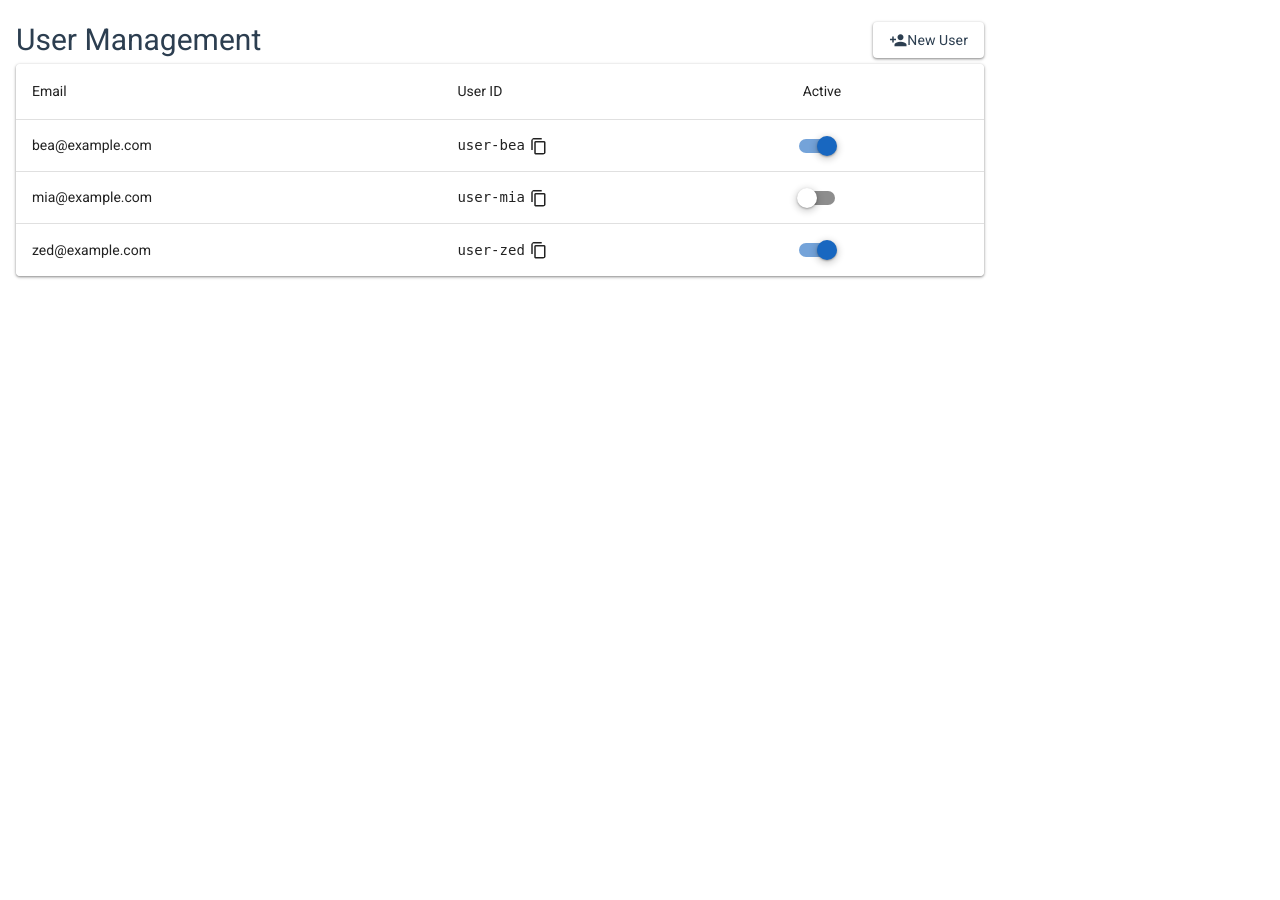
Test: UserManagementView › shows a copyable link when the invite email was not sent
Click the button with id "new-user-button" at (929, 40), box [873,22,984,58]
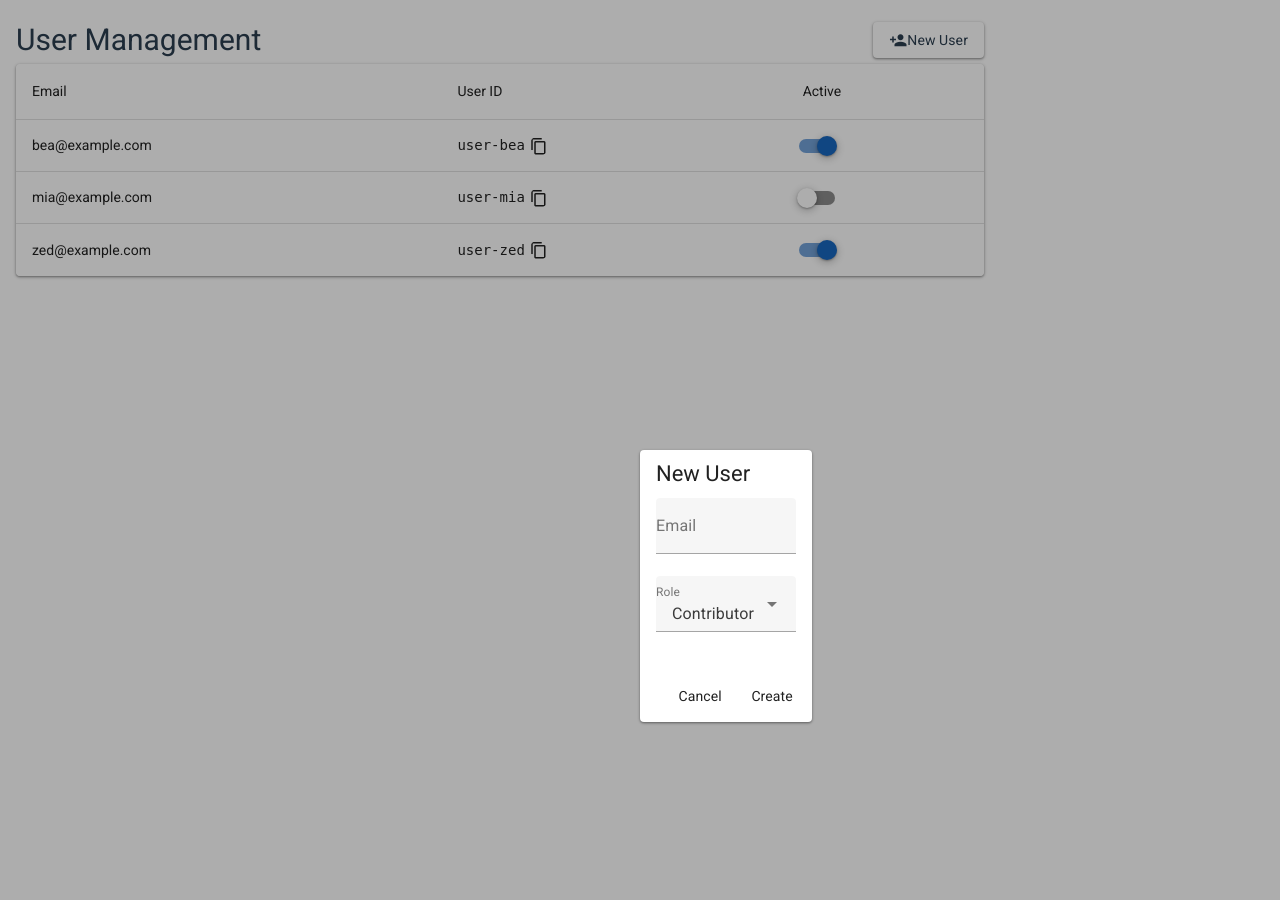
Type "new.hire@example.com" into the field with id "new-user-email" at (726, 526), box [656,498,796,554]
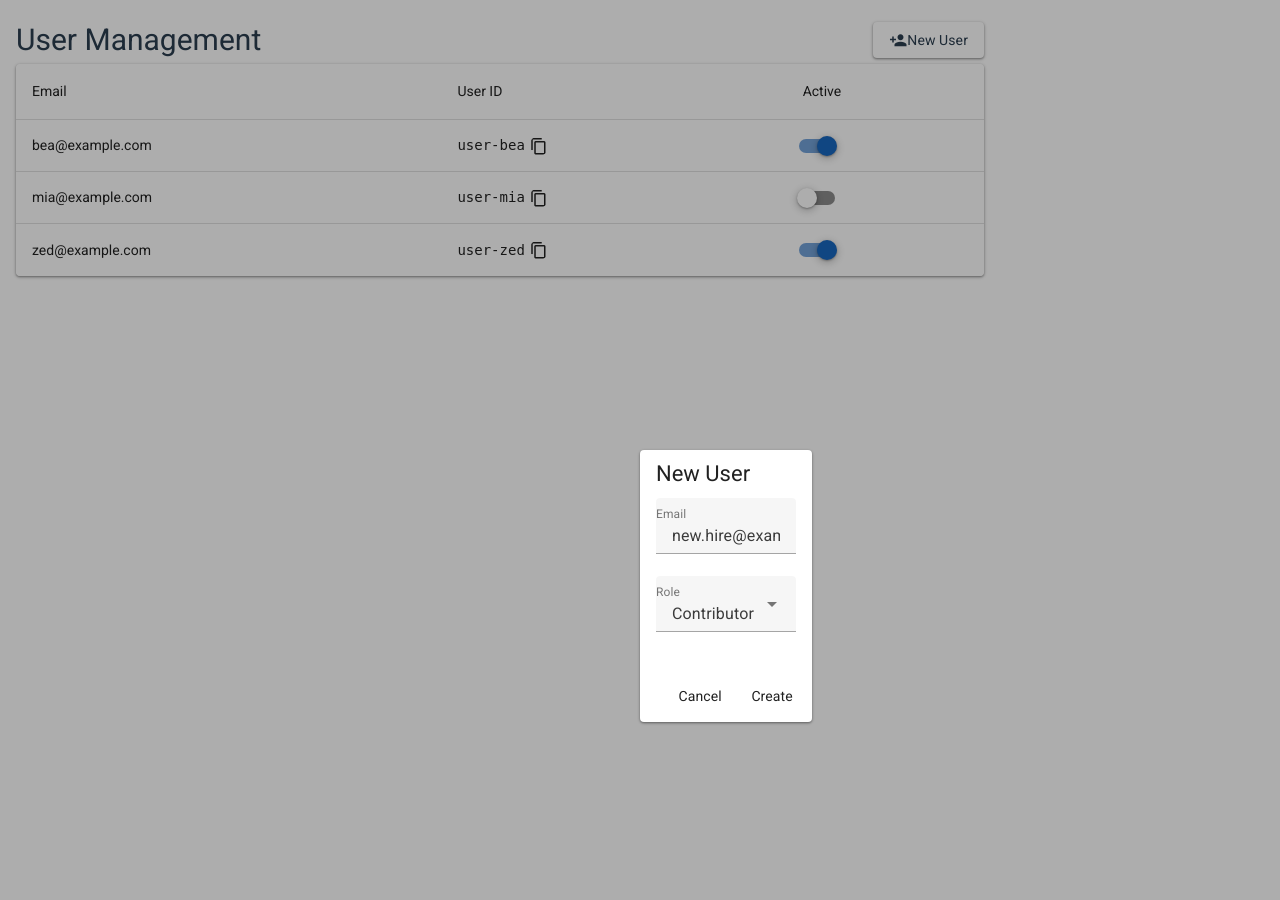
Click the button with id "confirm-create-user" at (772, 696), box [740,678,804,714]
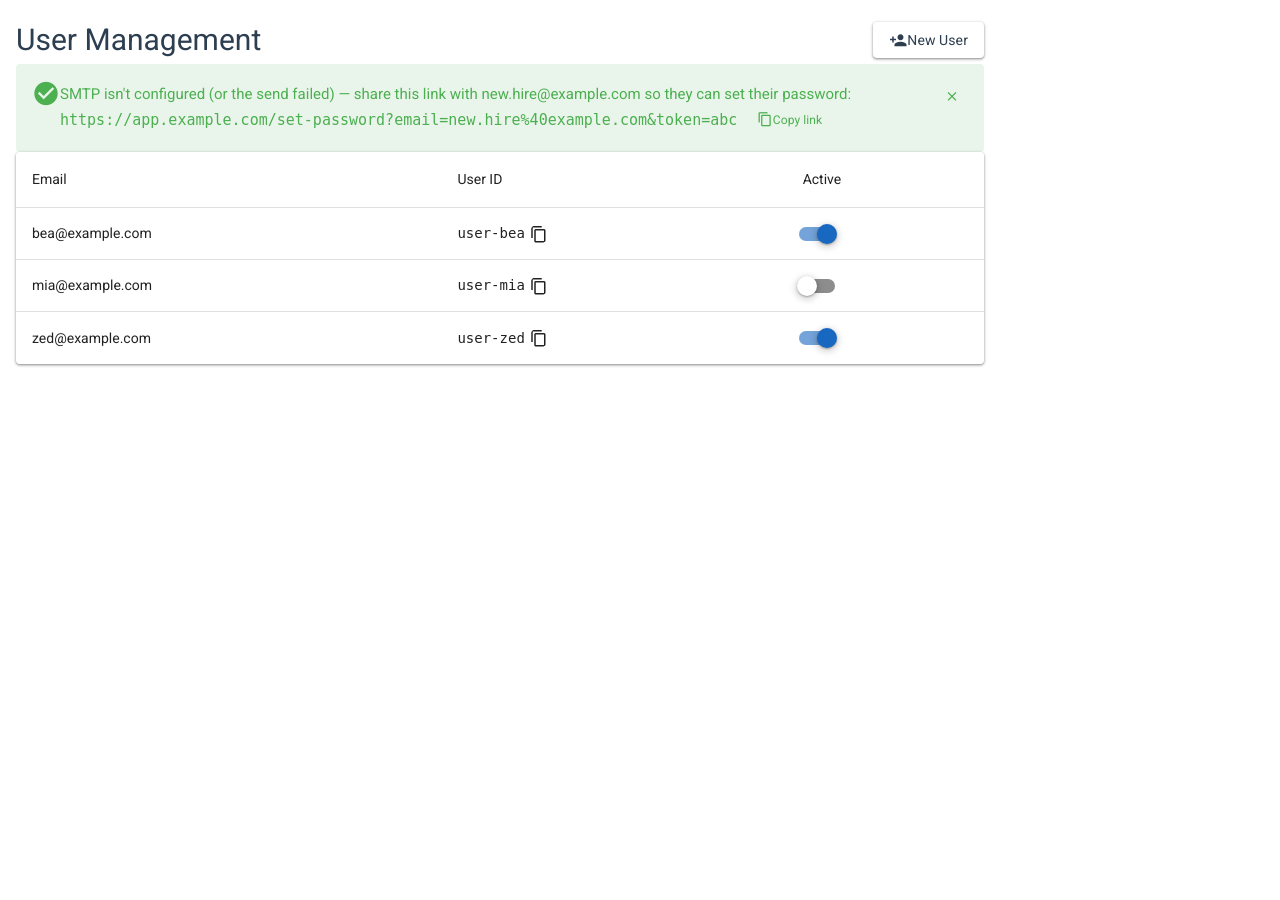
expect the text "SMTP isn't configured" is shown: met, box [60,85,851,103]
expect the text "https://app.example.com/set-password?email=new.hire%40example.com&token=abc" is shown: met, box [60,108,737,132]
